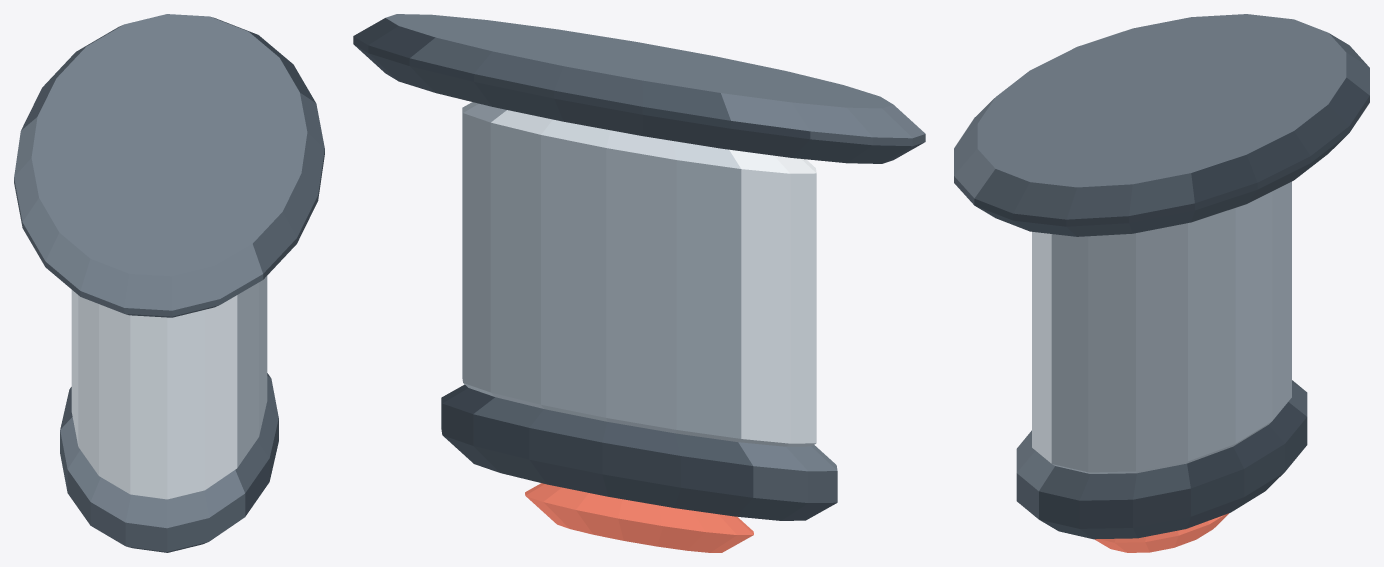
File: Laser_Down.gltf
The picture shows the model from 3 angles, left to right: view 1: azimuth 30°, elevation 25°; view 2: azimuth 150°, elevation 25°; view 3: azimuth 270°, elevation 25°; orthographic projection. The views are drawn at different scales.
Visible parts, largest first — view 1: Laser_Down_baked; view 2: Laser_Down_baked; view 3: Laser_Down_baked.
Part boxes in pixels (x1,y1,x2,y2): Laser_Down_baked: [14, 14, 324, 552]; Laser_Down_baked: [353, 14, 925, 552]; Laser_Down_baked: [954, 14, 1369, 552].
Bounding box in the file's own units: 0.5792 × 0.7258 × 0.5334.
